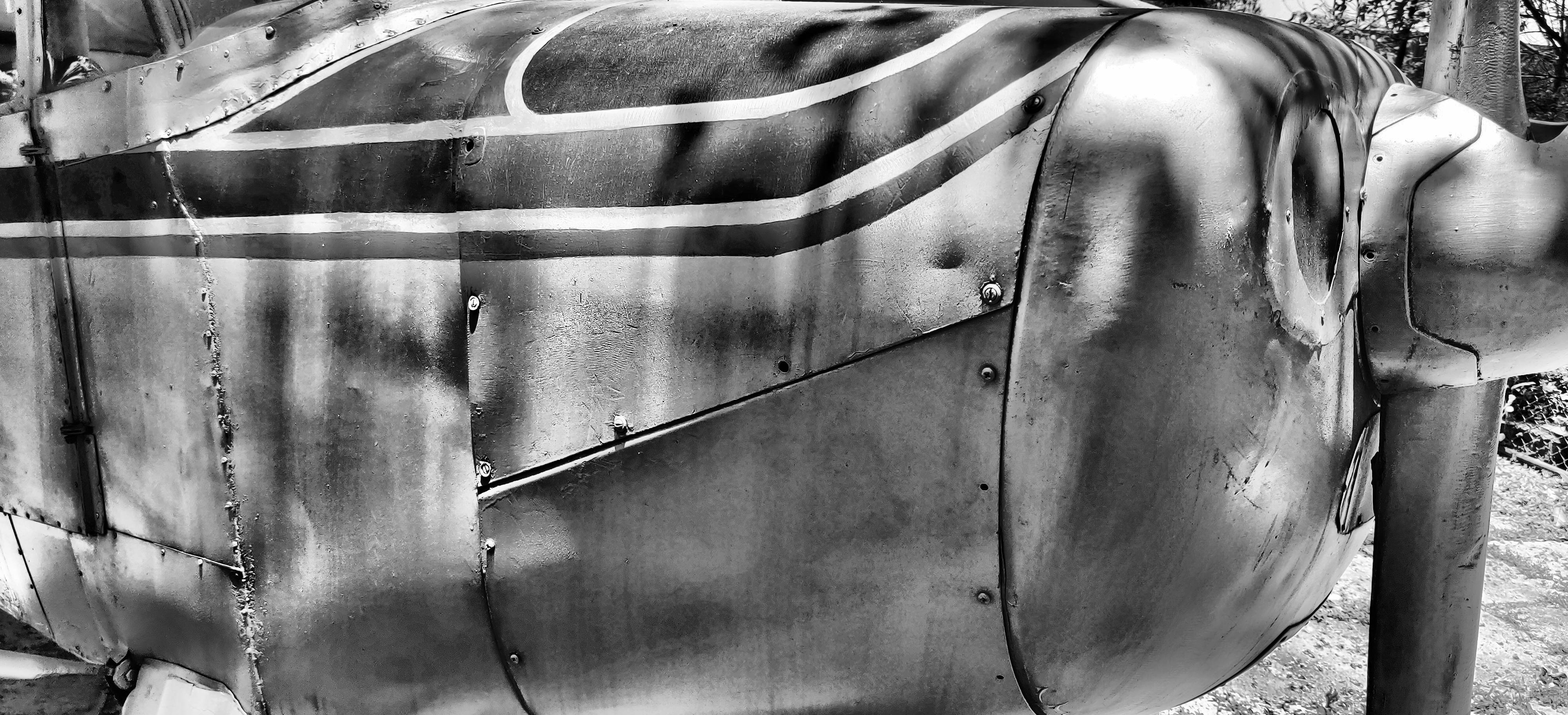dent: (480, 483, 578, 569), (175, 52, 281, 105), (336, 0, 432, 33), (168, 667, 233, 697), (997, 520, 1020, 595), (1020, 662, 1040, 711), (1462, 533, 1487, 570), (934, 253, 962, 273), (1345, 283, 1360, 314)
missing-head: (1362, 248, 1379, 264), (776, 361, 792, 374), (465, 136, 476, 154), (980, 481, 991, 493), (1374, 153, 1385, 164), (1370, 324, 1380, 333), (1380, 378, 1390, 384), (1338, 313, 1343, 324), (39, 515, 45, 522), (12, 507, 17, 515), (77, 527, 82, 534), (57, 521, 62, 528), (26, 512, 31, 519), (1391, 92, 1398, 97), (17, 549, 21, 556), (30, 584, 33, 589)
paint-peel-off: (1378, 393, 1389, 486), (1009, 113, 1035, 141), (1449, 34, 1464, 62), (847, 349, 870, 358)
scratch: (1062, 145, 1083, 220), (1462, 34, 1489, 49)
